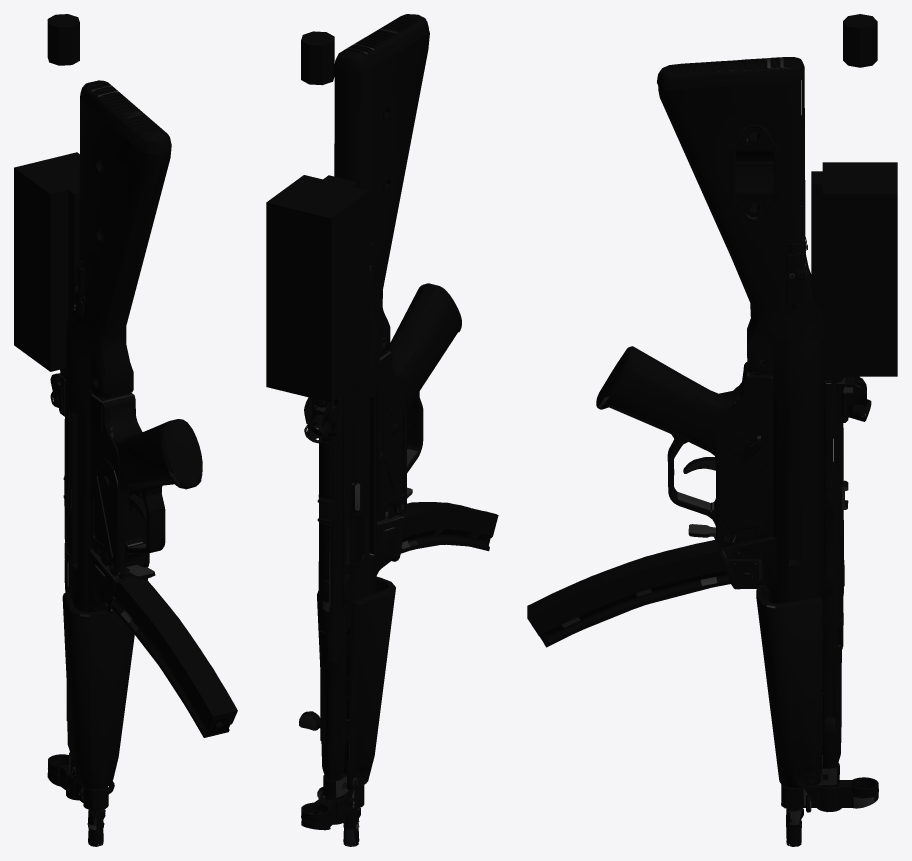
File: MP5A3__Adapter_HK_3Lug__Handguard_MP5_Rail__Laser_Pistol.fbx
The picture shows the model from 3 angles, left to right: view 1: azimuth 30°, elevation 25°; view 2: azimuth 150°, elevation 25°; view 3: azimuth 270°, elevation 25°; orthographic projection. The views are drawn at different scales.
Parts seen in each view (by area): view 1: asset_MP5A3.001; view 2: asset_MP5A3.001; view 3: asset_MP5A3.001.
Boxes of the visible parts, x1,y1,x2,y2 form: asset_MP5A3.001: (14,14,237,846); asset_MP5A3.001: (266,14,498,846); asset_MP5A3.001: (527,14,897,846).
Size of the model in its own units: 0.0324 by 0.378 by 0.1542.
